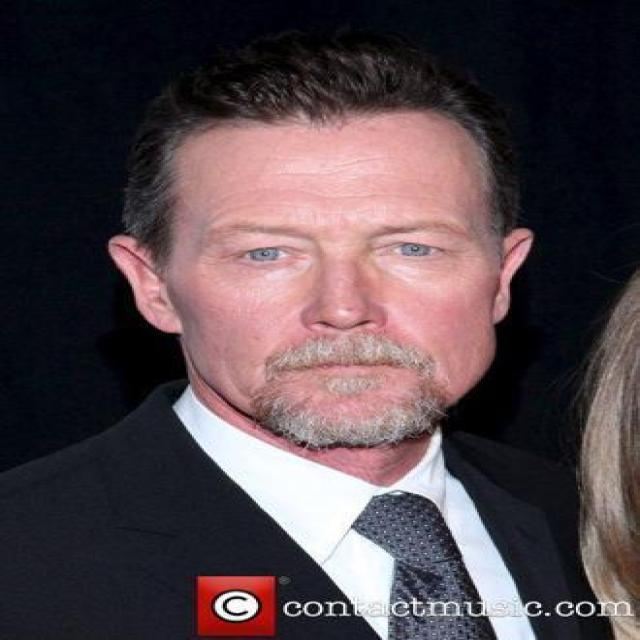0_rostro_limpio: (129, 100, 534, 453)
